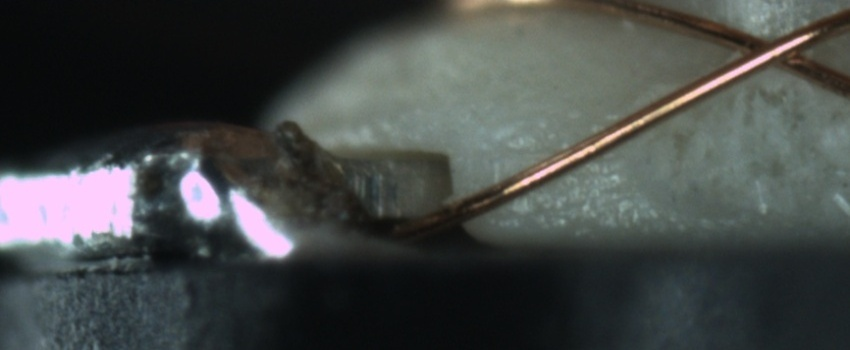CL: (714, 20, 833, 79)
DL: (492, 130, 621, 171)
